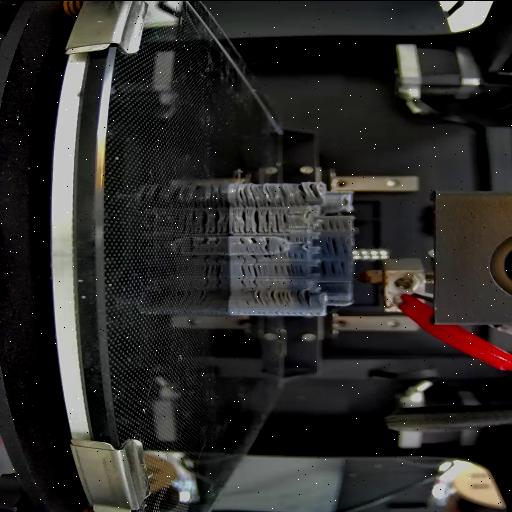cracks: (238, 182, 289, 206), (252, 289, 312, 305), (234, 208, 272, 232), (296, 182, 318, 204), (321, 237, 343, 256), (322, 260, 348, 276), (273, 264, 303, 276), (240, 253, 272, 263), (322, 219, 346, 232), (240, 264, 262, 278), (273, 212, 289, 231), (286, 234, 310, 242), (240, 278, 264, 286), (264, 235, 272, 253), (240, 236, 258, 244), (285, 252, 305, 258), (276, 242, 286, 252)
